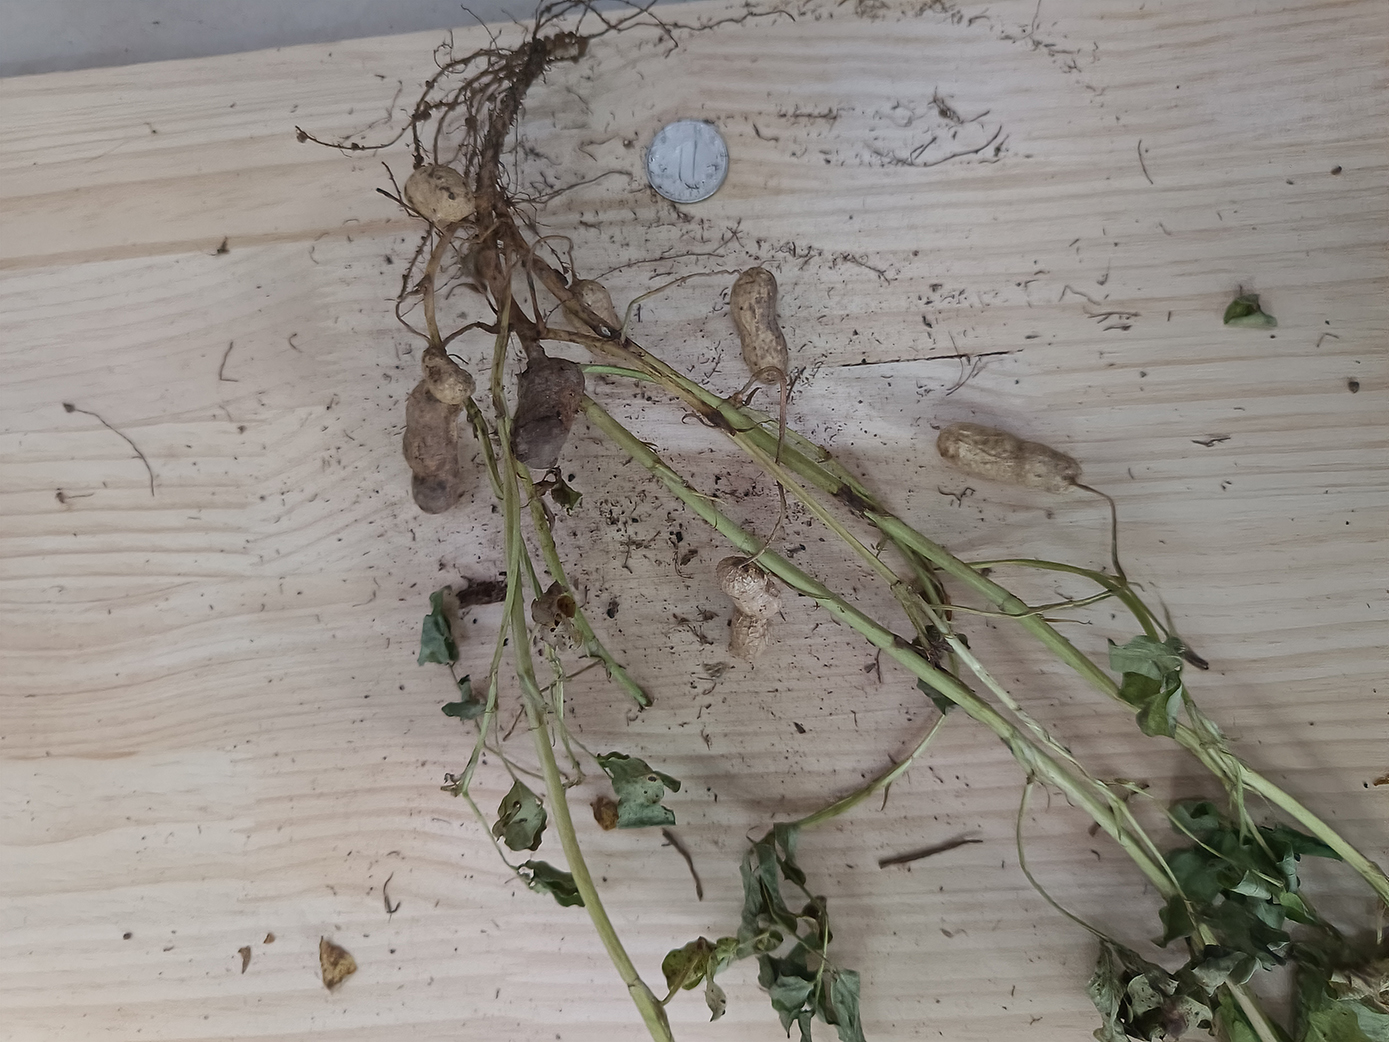h: (936, 422, 1083, 496), (729, 266, 789, 384), (718, 556, 780, 661), (565, 280, 624, 360), (407, 164, 475, 223), (420, 349, 475, 402)
l: (511, 357, 586, 470), (403, 381, 458, 513)
